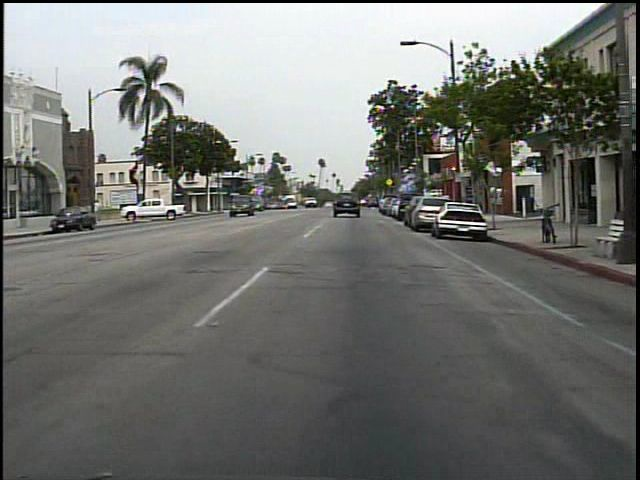person: (89, 197, 105, 225)
